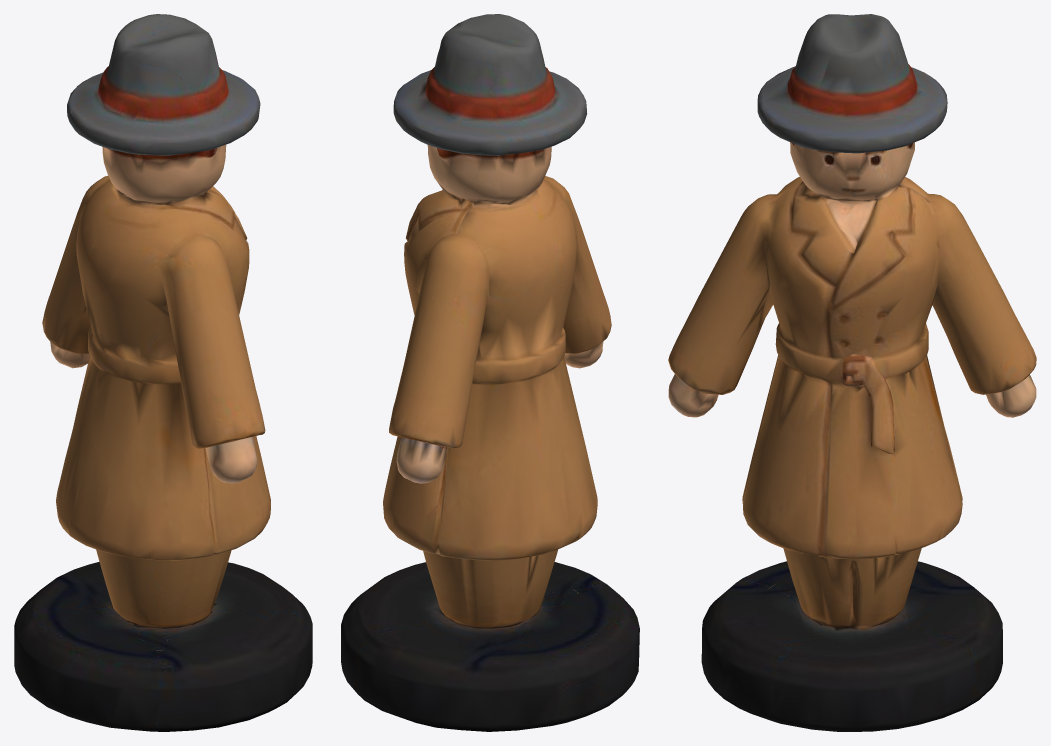
The model's file is person_detective.glb.
3 renders of one model, left to right at view 1: azimuth 30°, elevation 25°; view 2: azimuth 150°, elevation 25°; view 3: azimuth 270°, elevation 25°, orthographic.
Parts seen in each view (by area): view 1: tripo_node_fed2c07a-9a09-4356-b7d4-2213ee8127b6; view 2: tripo_node_fed2c07a-9a09-4356-b7d4-2213ee8127b6; view 3: tripo_node_fed2c07a-9a09-4356-b7d4-2213ee8127b6.
Part boxes in pixels (x1=…): tripo_node_fed2c07a-9a09-4356-b7d4-2213ee8127b6: x1=14, y1=14, x2=312, y2=731; tripo_node_fed2c07a-9a09-4356-b7d4-2213ee8127b6: x1=341, y1=14, x2=639, y2=731; tripo_node_fed2c07a-9a09-4356-b7d4-2213ee8127b6: x1=668, y1=14, x2=1036, y2=731.
Bounding box in the file's own units: 0.419 × 0.9998 × 0.5124.
Materials: 1 (1 with a texture image).
